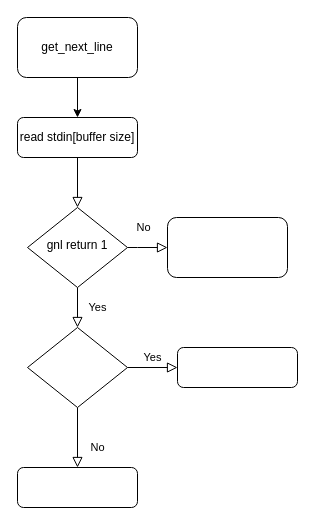
Image size: 315x525. Some labels were removed from this diagram. Here are the shapes that lost their labels. From the top down, the centre of each, then its label:
At (227,247): "ctrl c, ctrl d, ctrl *".
At (77,487): "Repair Lamp".
